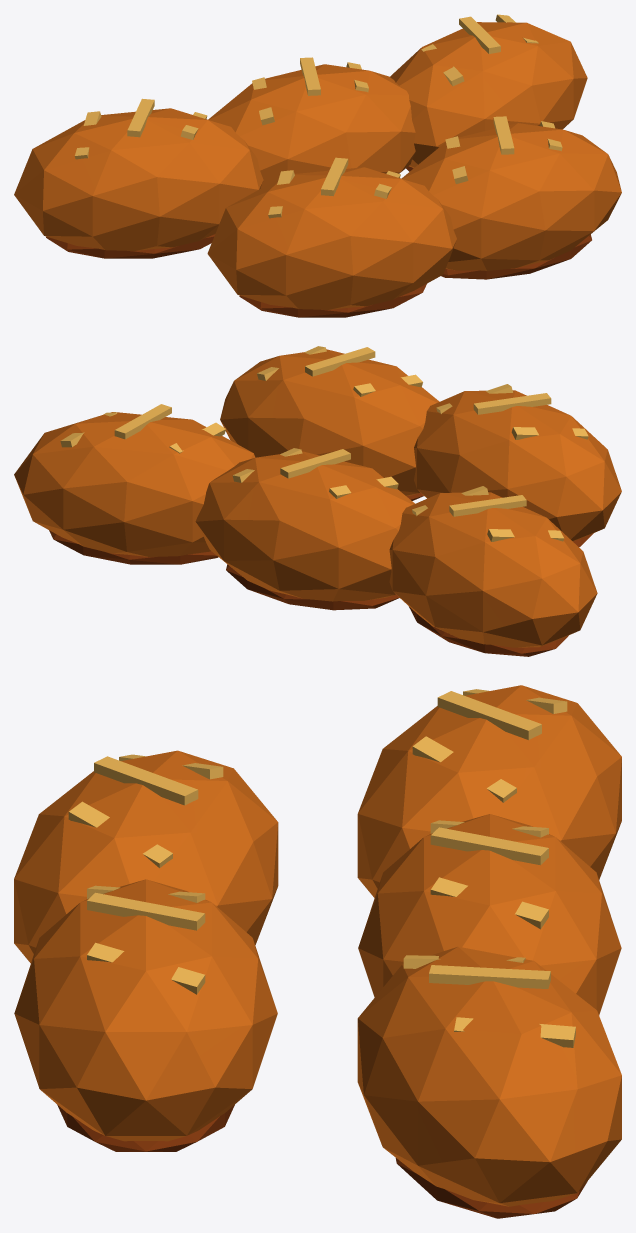
Rendered from pile-bread-5.obj.
3 renders of one model, top to bottom at view 1: azimuth 30°, elevation 25°; view 2: azimuth 150°, elevation 25°; view 3: azimuth 270°, elevation 25°, orthographic. The views are drawn at different scales.
Parts seen in each view (by area): view 1: pile-bread-5; view 2: pile-bread-5; view 3: pile-bread-5.
Part boxes in pixels (box(x1,y1,x2,y2)): pile-bread-5: box(14, 14, 621, 317); pile-bread-5: box(14, 346, 621, 656); pile-bread-5: box(14, 685, 621, 1218).
Size of the model in its own units: 0.8843 by 0.2025 by 0.5306.
1 material, 1 textured.
